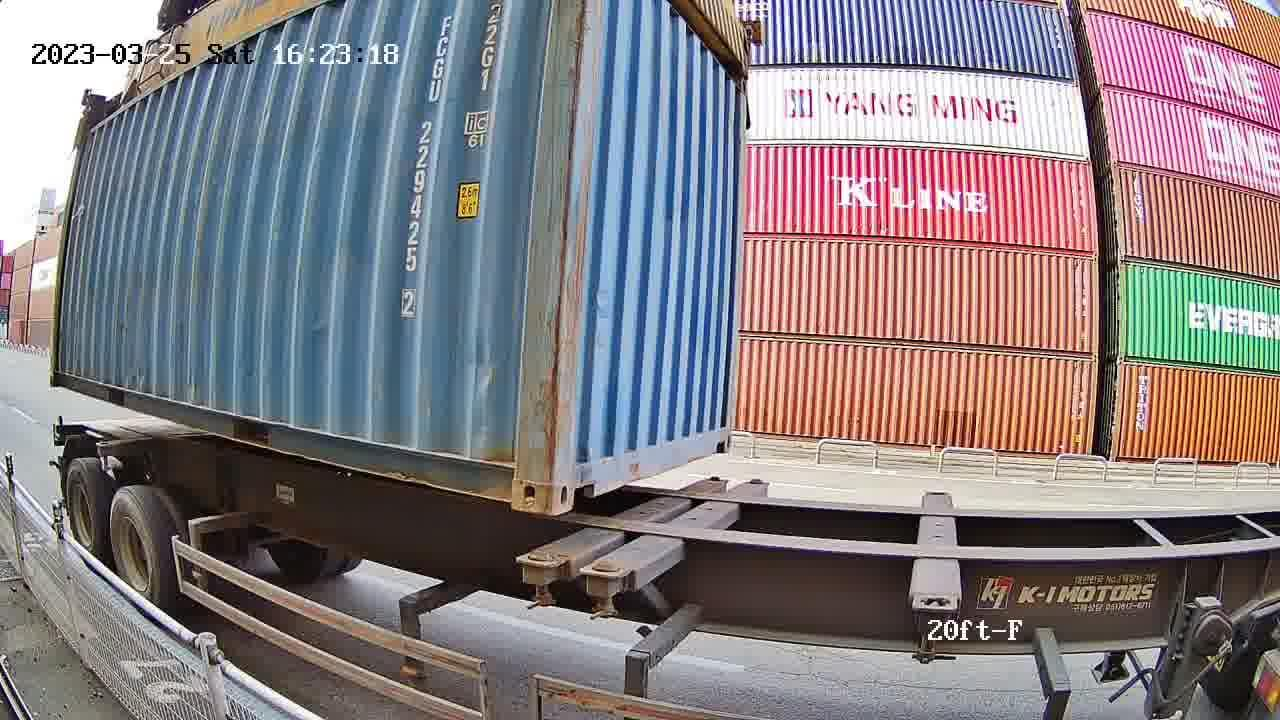Chassis: (587, 481, 769, 588), (518, 479, 725, 565)
Cone: (579, 562, 635, 625), (517, 551, 567, 610)
Hole_L: (550, 425, 607, 514)
Hole_R: (477, 424, 556, 514), (708, 410, 732, 454)
Tire: (110, 488, 170, 610), (66, 462, 104, 563)
